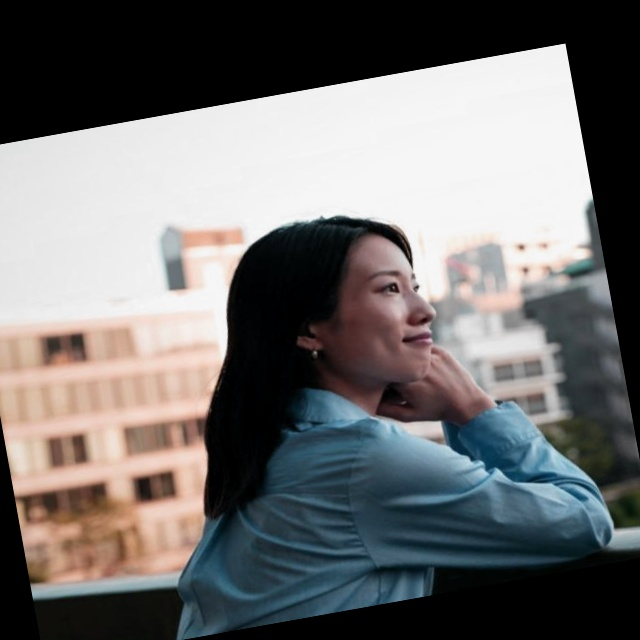Sin_Casco_Mascarrilla: (229, 200, 440, 410)
